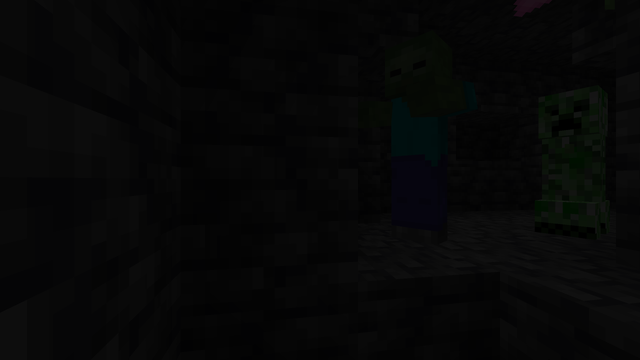creepers: (526, 78, 614, 238)
zombies: (380, 36, 463, 247)
